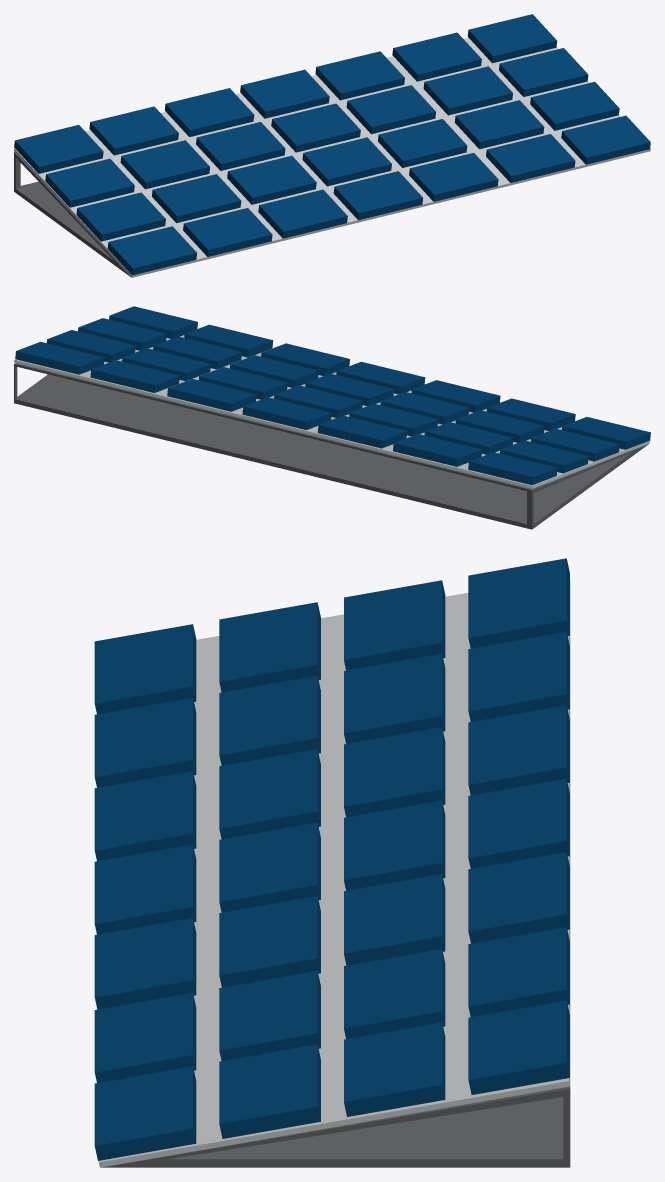
File: Solar Panel 4x7 small.glb
The picture shows the model from 3 angles, top to bottom: view 1: azimuth 30°, elevation 25°; view 2: azimuth 150°, elevation 25°; view 3: azimuth 270°, elevation 25°; orthographic projection. The views are drawn at different scales.
Visible parts, largest first — view 1: Mesh_Mesh_head_geo.001_lambert2SG.001; view 2: Mesh_Mesh_head_geo.001_lambert2SG.001; view 3: Mesh_Mesh_head_geo.001_lambert2SG.001.
Part boxes in pixels (box(x1,y1,x2,y2)): Mesh_Mesh_head_geo.001_lambert2SG.001: box(14, 14, 650, 277); Mesh_Mesh_head_geo.001_lambert2SG.001: box(14, 306, 650, 529); Mesh_Mesh_head_geo.001_lambert2SG.001: box(94, 558, 570, 1167).
Size of the model in its own units: 213 by 20.35 by 84.53.
